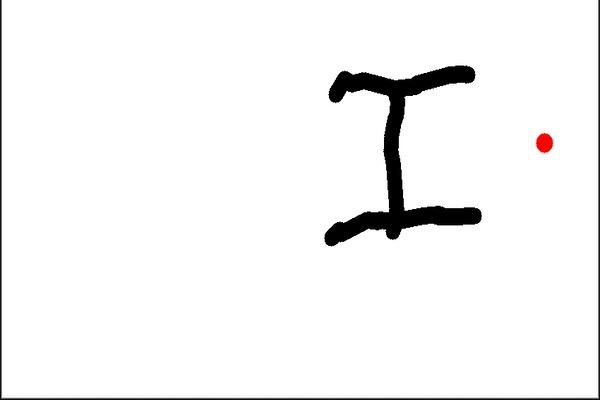i: (319, 61, 490, 247)
